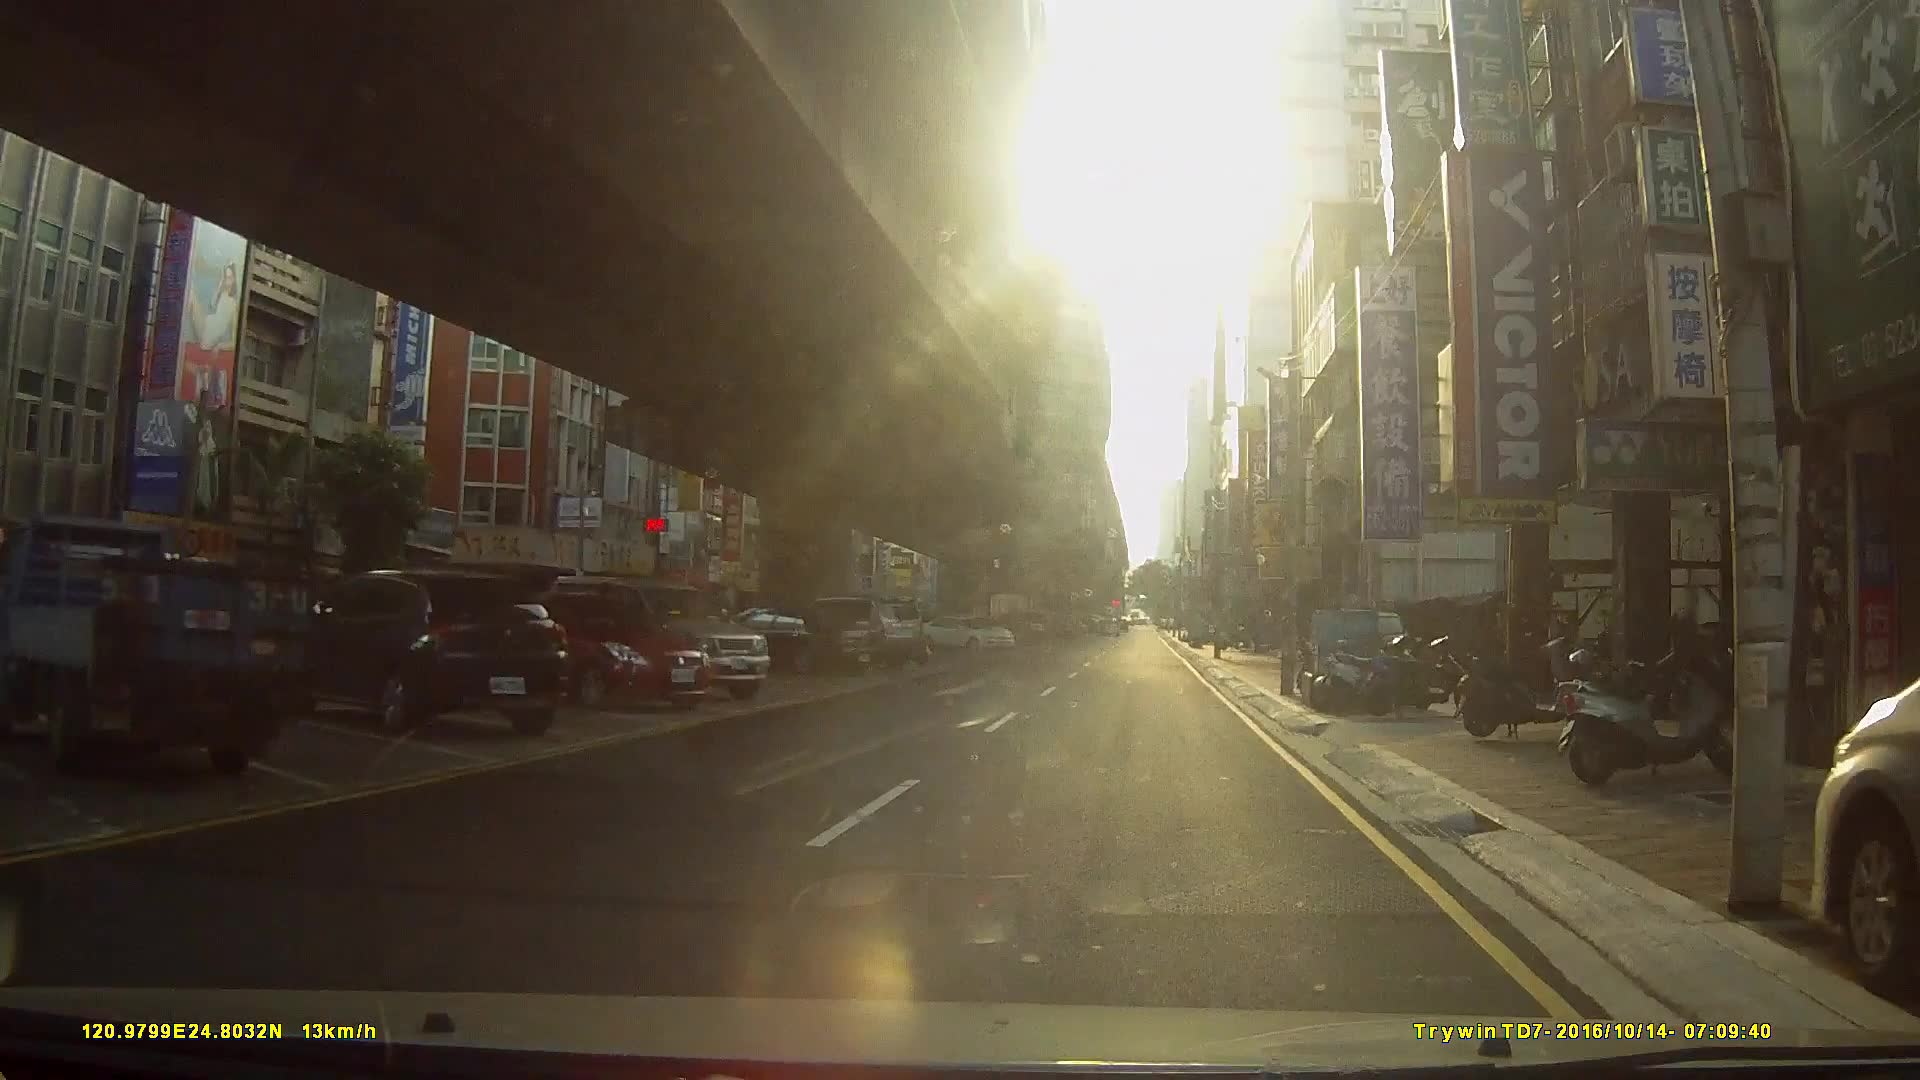vehicle: (0, 513, 318, 779), (290, 570, 564, 736), (545, 571, 771, 702), (504, 585, 713, 713), (703, 604, 876, 675), (785, 593, 928, 669), (920, 615, 1017, 654)
